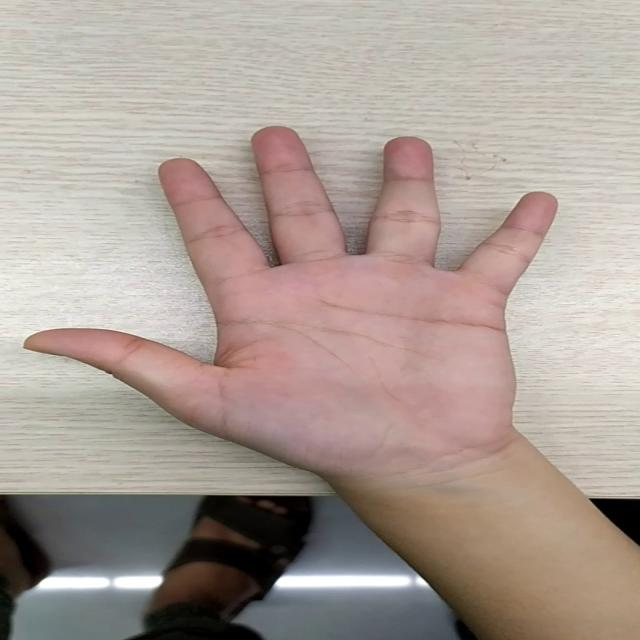hand: (60, 131, 594, 466)
